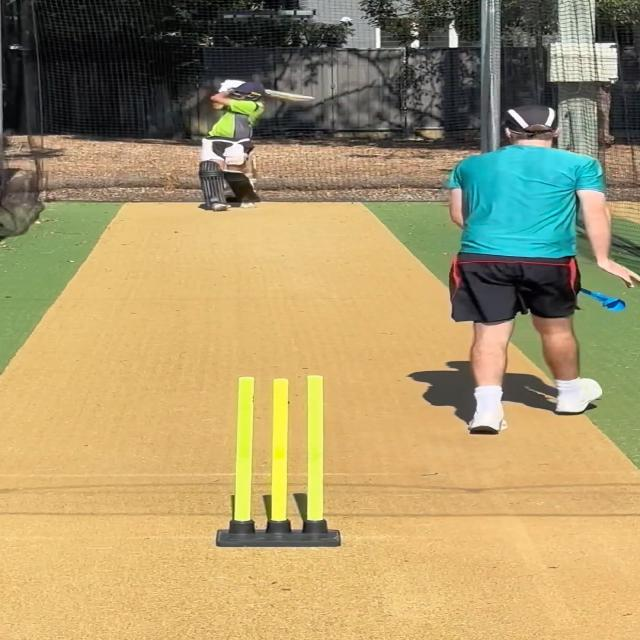stump: (212, 372, 345, 550)
